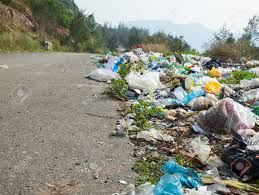garbage: (107, 50, 259, 191)
